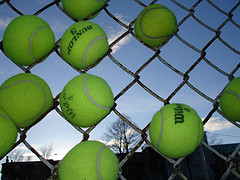tennis ball: (147, 102, 205, 158), (1, 73, 53, 129), (2, 14, 56, 66), (57, 139, 121, 180), (59, 20, 110, 67), (133, 4, 178, 47), (59, 1, 107, 21), (218, 77, 239, 121), (1, 109, 17, 159)
